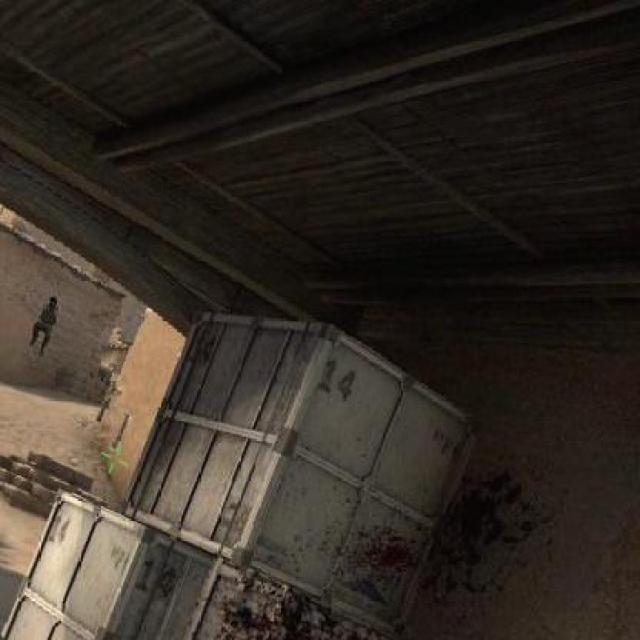CT-Body: (48, 296, 58, 304)
CT-Head: (28, 292, 62, 356)
